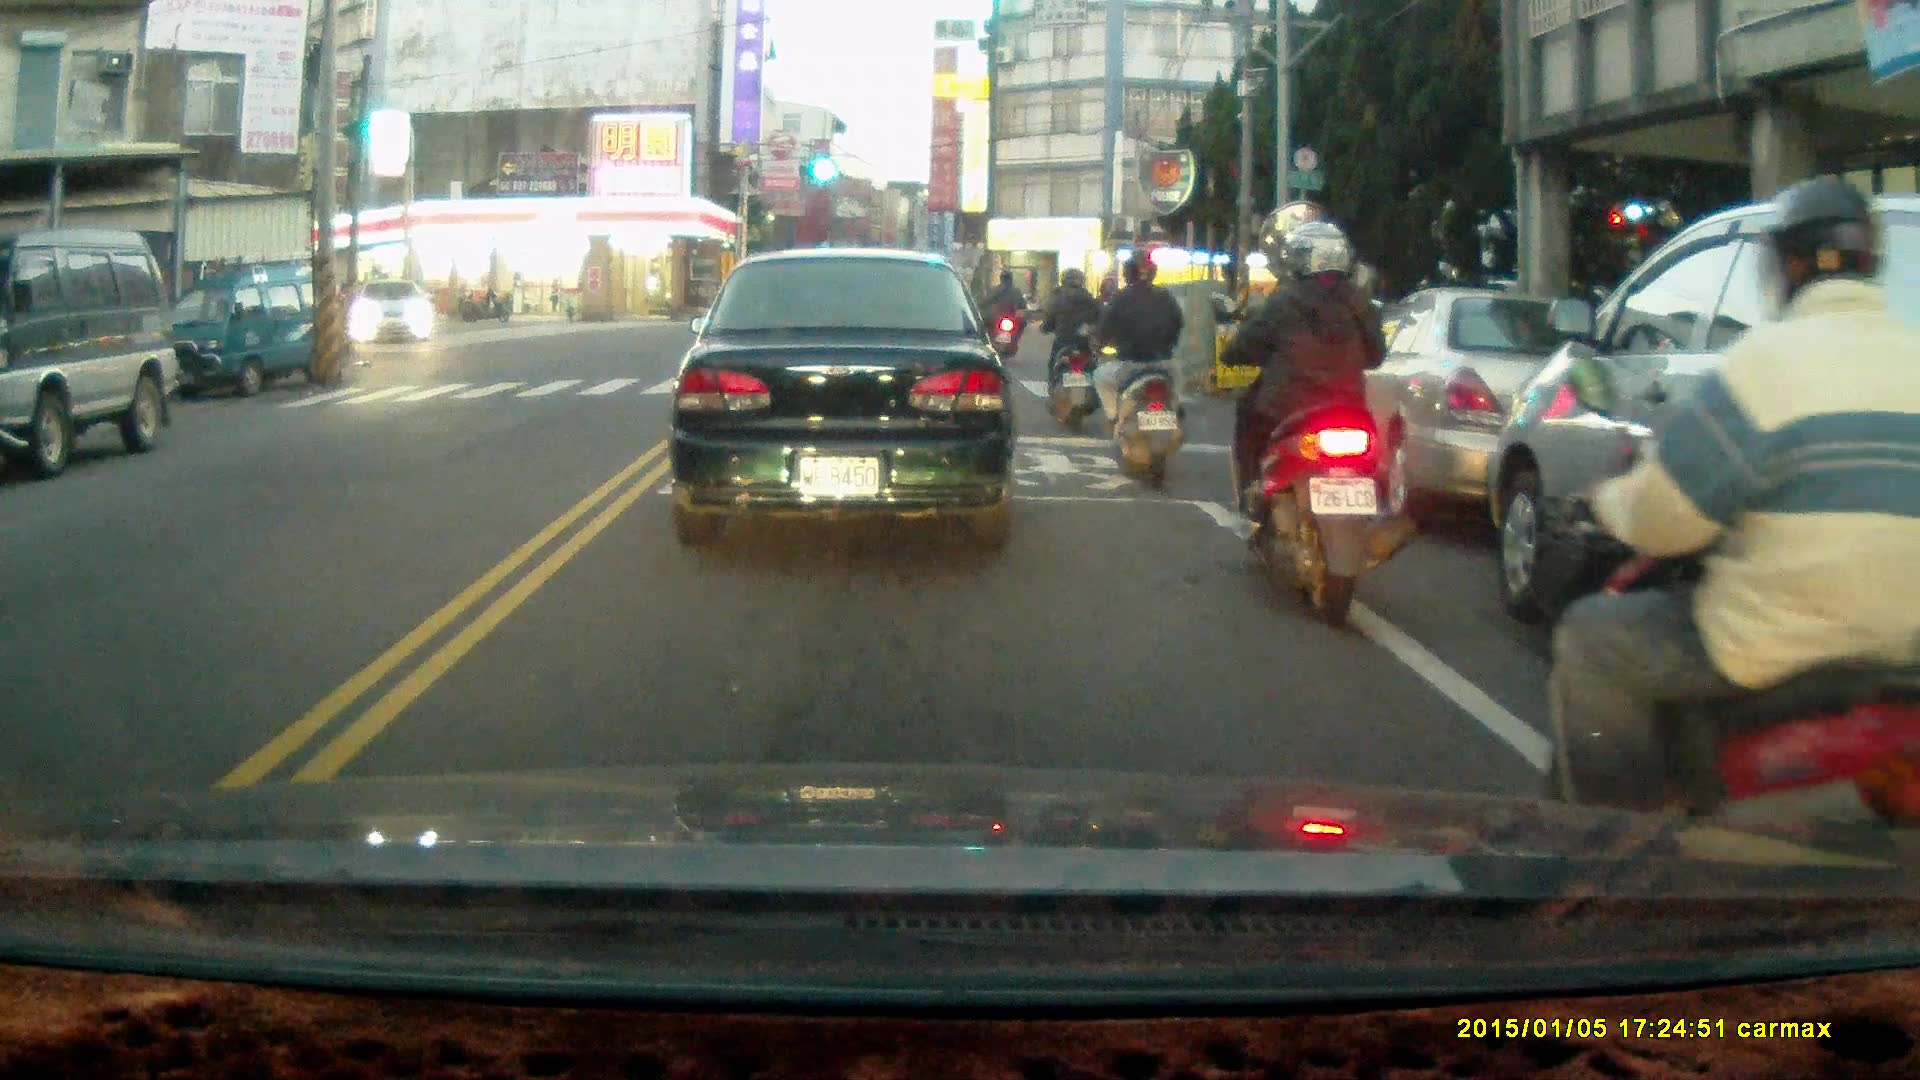rider: (1542, 175, 1920, 878), (1216, 218, 1413, 632), (1072, 248, 1184, 487), (1034, 265, 1104, 428), (985, 272, 1028, 366)
vehicle: (1493, 195, 1920, 814), (673, 249, 1021, 548), (1308, 288, 1680, 526), (1, 234, 169, 470), (152, 263, 348, 405), (354, 282, 438, 350)
